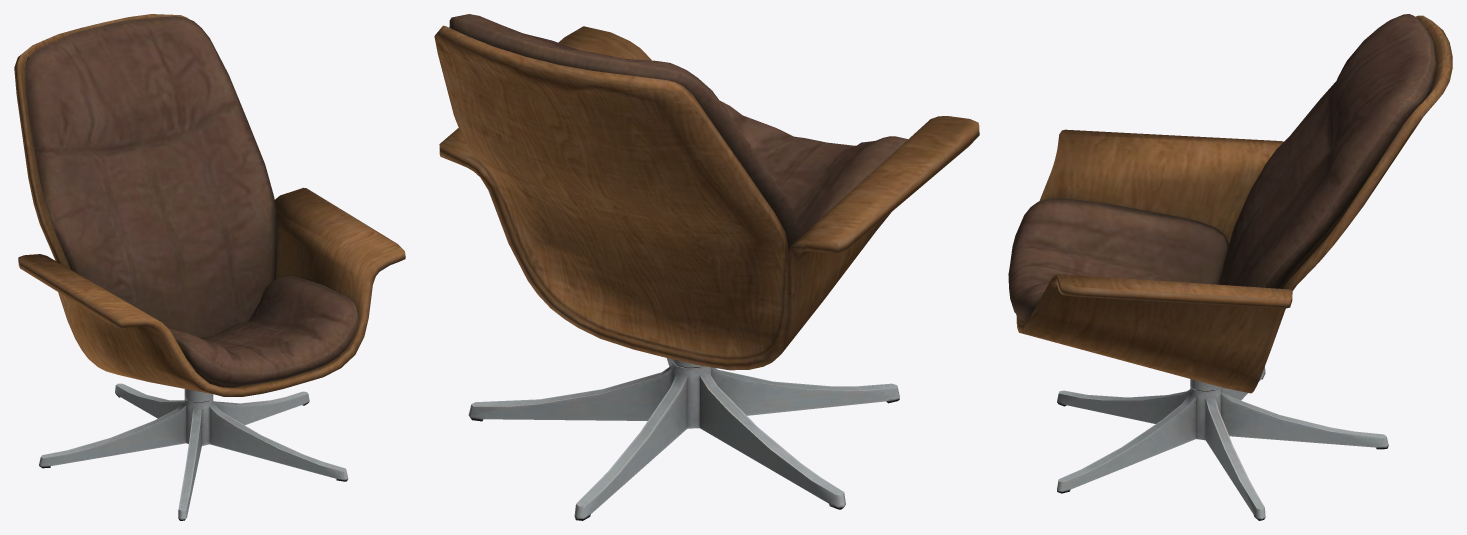
3 renders of one model, left to right at view 1: azimuth 30°, elevation 25°; view 2: azimuth 150°, elevation 25°; view 3: azimuth 270°, elevation 25°, orthographic. The views are drawn at different scales.
Visible parts, largest first — view 1: mid_century_lounge_chair; view 2: mid_century_lounge_chair; view 3: mid_century_lounge_chair.
Part boxes in pixels (bbox=[...]): mid_century_lounge_chair: bbox=[14, 14, 405, 520]; mid_century_lounge_chair: bbox=[434, 14, 979, 520]; mid_century_lounge_chair: bbox=[1008, 14, 1452, 520].
Size of the model in its own units: 1.01 by 1.17 by 1.19.
1 material, 1 textured.
